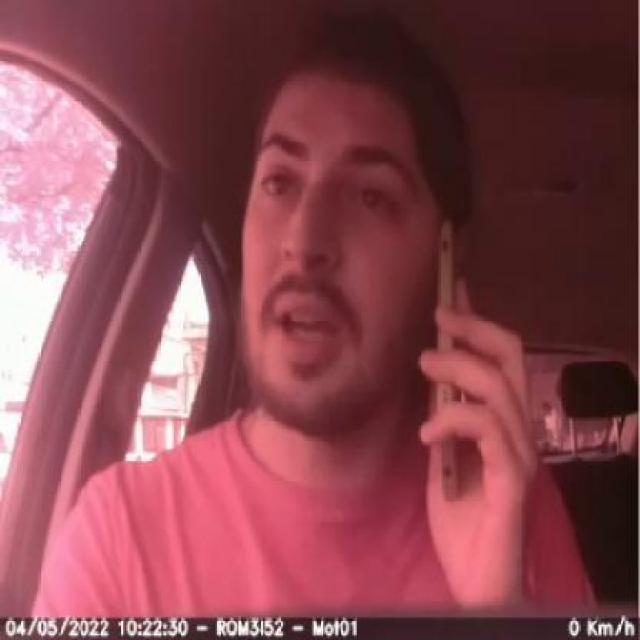using_phone: (206, 146, 551, 523)
